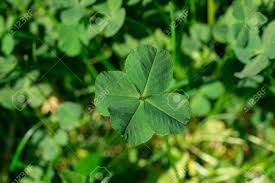4-clover: (96, 43, 189, 143)
